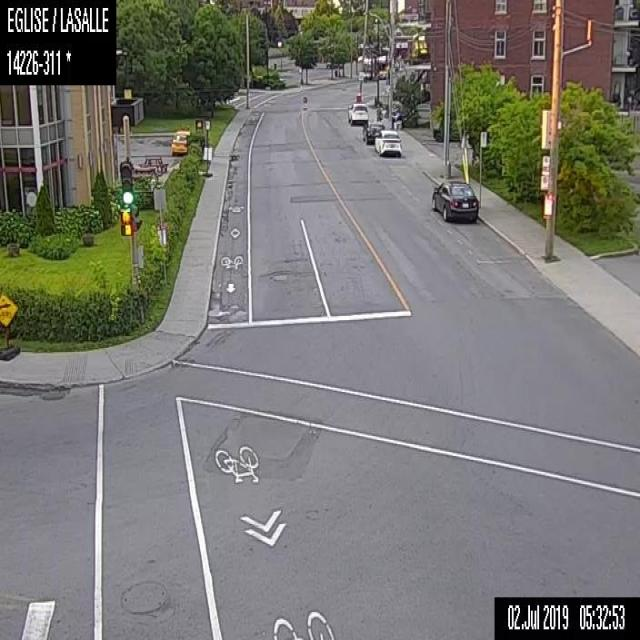bus: (357, 54, 387, 78)
pedestrian: (374, 100, 382, 124)
vehicle: (429, 177, 478, 223), (373, 129, 400, 156), (171, 127, 190, 154), (346, 102, 368, 125), (362, 122, 384, 144)
